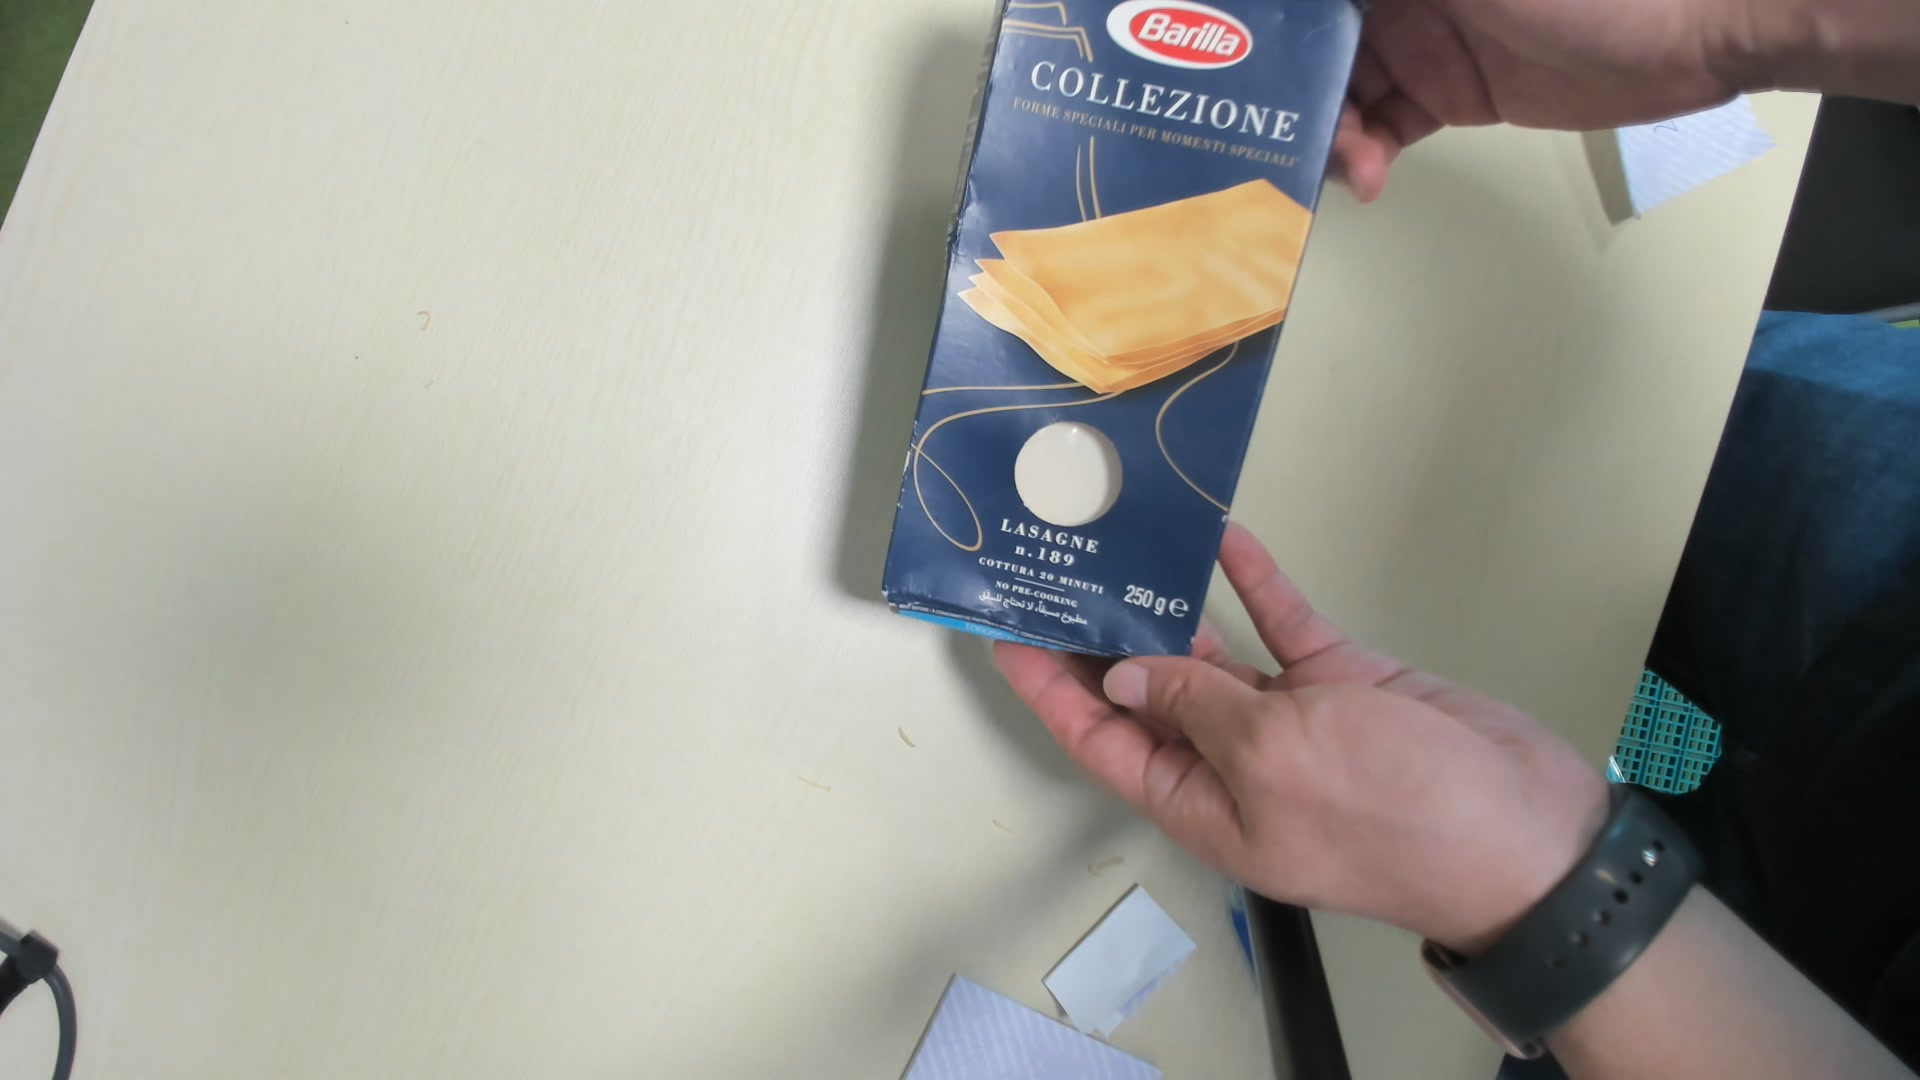InstantMeals_200_299g_NonHalal_NonHealthy: (894, 3, 1356, 673)
